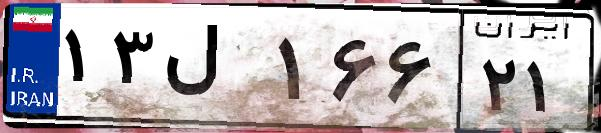1: (270, 28, 330, 110), (57, 26, 110, 100), (525, 38, 570, 115)
2: (475, 38, 525, 113)
3: (110, 28, 158, 98)
6: (385, 28, 445, 110), (330, 28, 385, 110)
ل: (158, 20, 270, 120)
